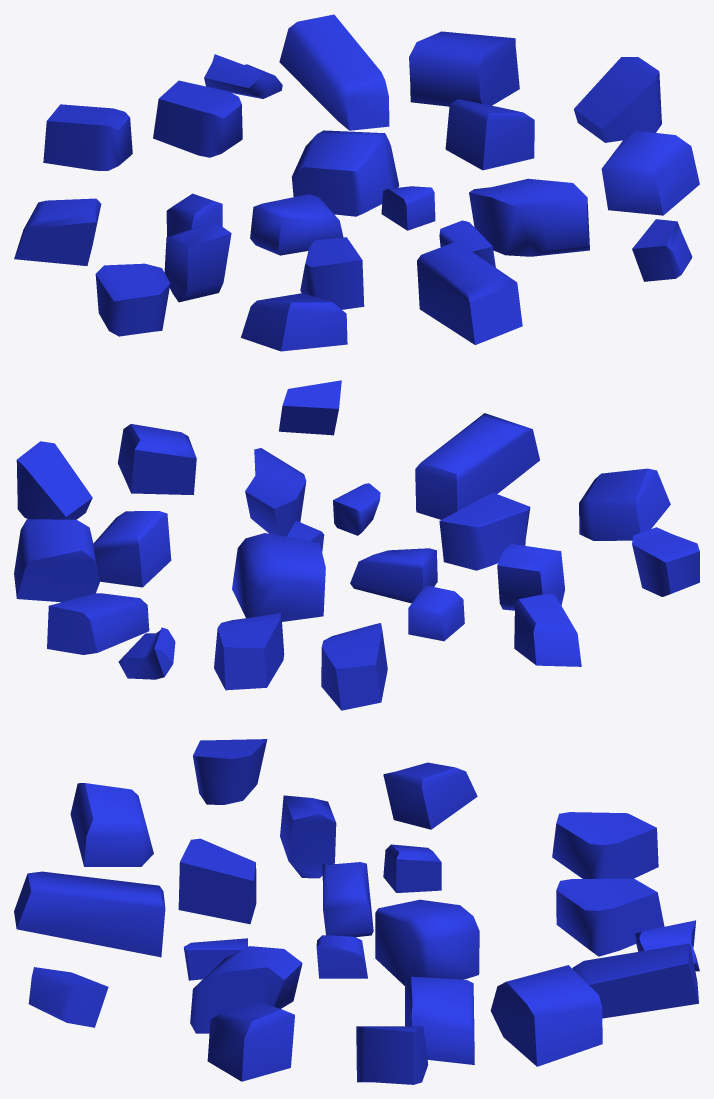
The model's file is chopped meat_butter.fbx.
3 views of the same model, one above another, from view 1: azimuth 30°, elevation 25°; view 2: azimuth 150°, elevation 25°; view 3: azimuth 270°, elevation 25° (orthographic). The views are drawn at different scales.
Visible parts, largest first — view 1: veal_particles_low; view 2: veal_particles_low; view 3: veal_particles_low.
Boxes of the visible parts, x1,y1,x2,y2 form: veal_particles_low: (14,14,699,351); veal_particles_low: (14,380,699,710); veal_particles_low: (14,739,699,1084).
Size of the model in its own units: 26.15 by 3.5 by 24.33.
